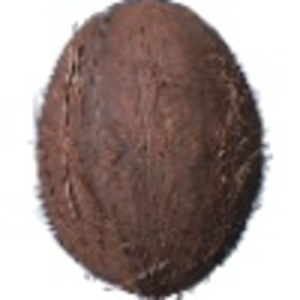coco: (36, 1, 271, 300)
